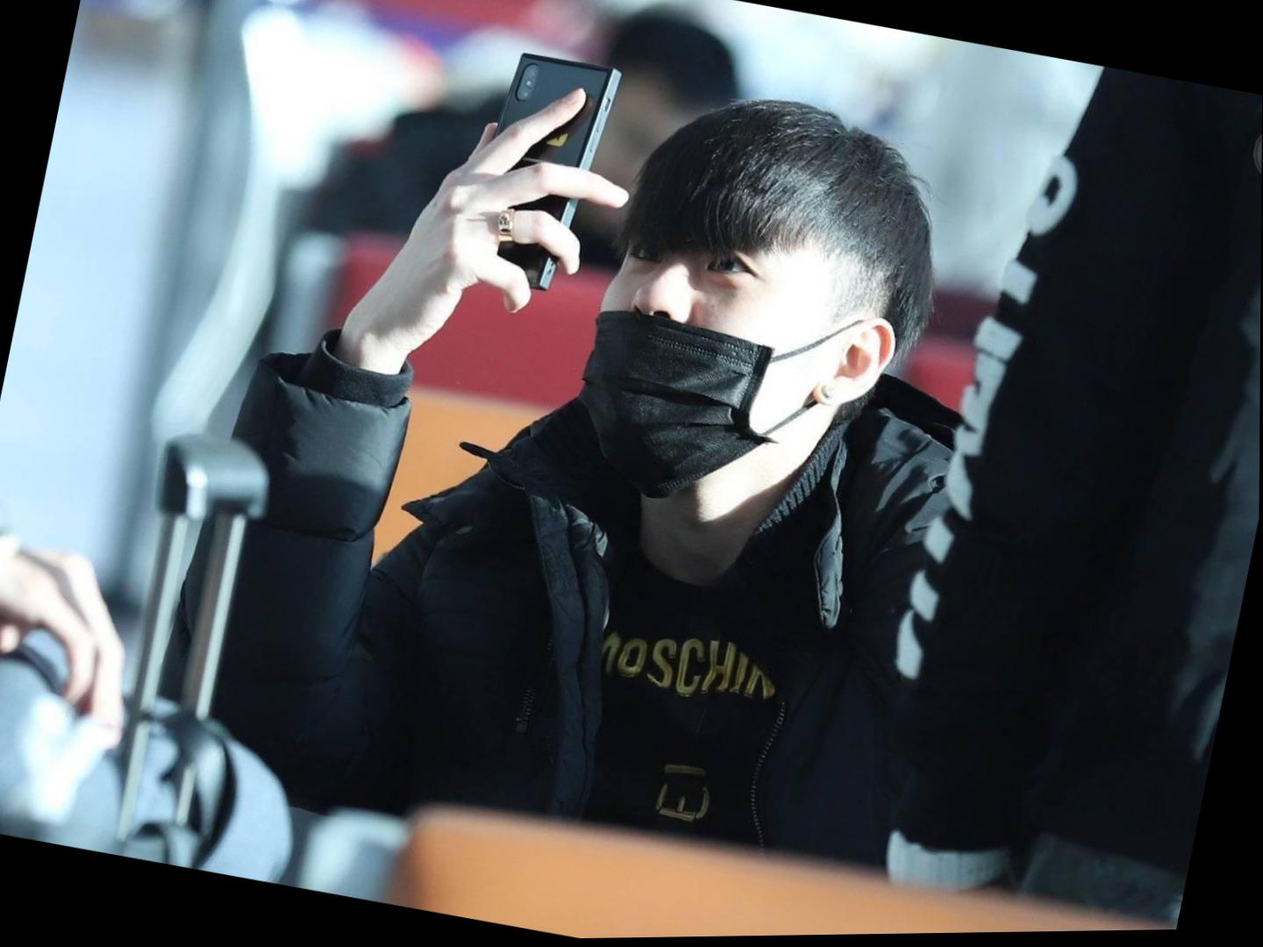WRONG: (568, 197, 834, 493)
